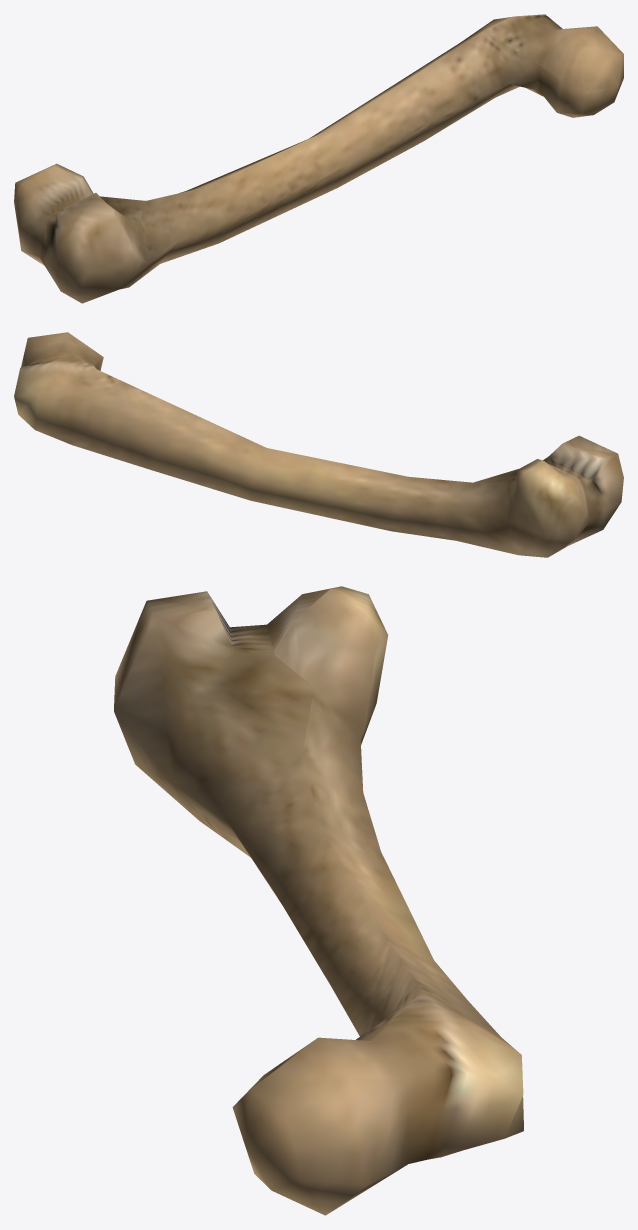
The model's file is bone_05.FBX.
The picture shows the model from 3 angles, top to bottom: view 1: azimuth 30°, elevation 25°; view 2: azimuth 150°, elevation 25°; view 3: azimuth 270°, elevation 25°; orthographic projection. The views are drawn at different scales.
Parts seen in each view (by area): view 1: bone_05; view 2: bone_05; view 3: bone_05.
Part boxes in pixels (<box>): bone_05: <box>14,14,623,303</box>; bone_05: <box>14,332,623,557</box>; bone_05: <box>114,586,523,1215</box>.
Size of the model in its own units: 23.12 by 4.45 by 7.3.
